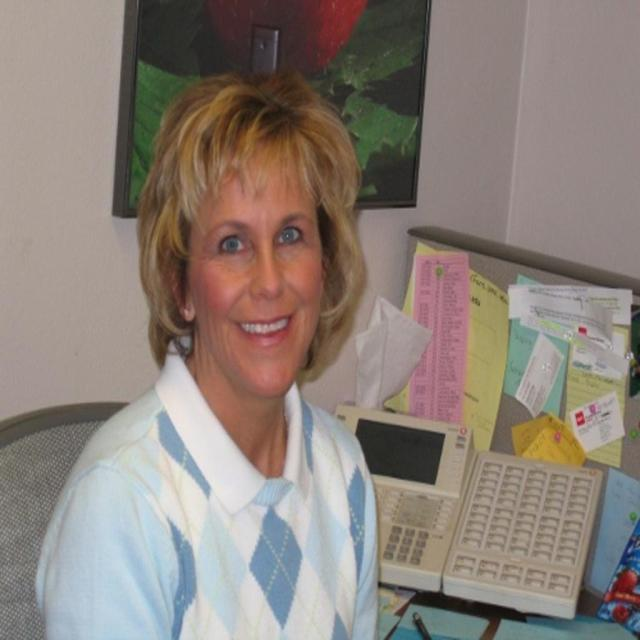Face: (185, 153, 334, 408)
